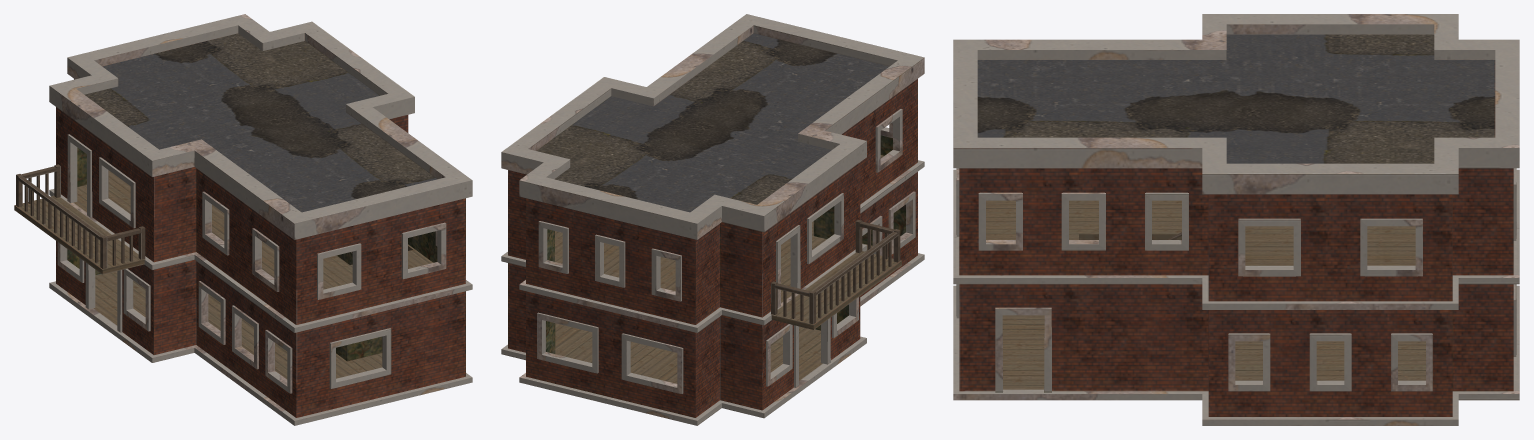
File: textured_building_with_interior.glb
3 renders of one model, left to right at view 1: azimuth 30°, elevation 25°; view 2: azimuth 150°, elevation 25°; view 3: azimuth 270°, elevation 25°, orthographic. The views are drawn at different scales.
Parts seen in each view (by area): view 1: building.001; view 2: building.001; view 3: building.001.
Part boxes in pixels (x1,y1,x2,y2): building.001: (14,14,472,425); building.001: (501,14,924,425); building.001: (953,14,1519,425).
Bounding box in the file's own units: 11.32 × 7.17 × 14.6.
1 material, 1 textured.
